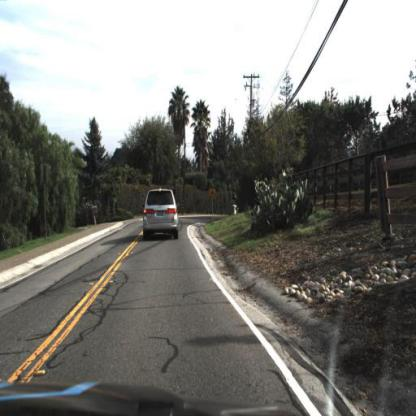car: (134, 175, 186, 256)
